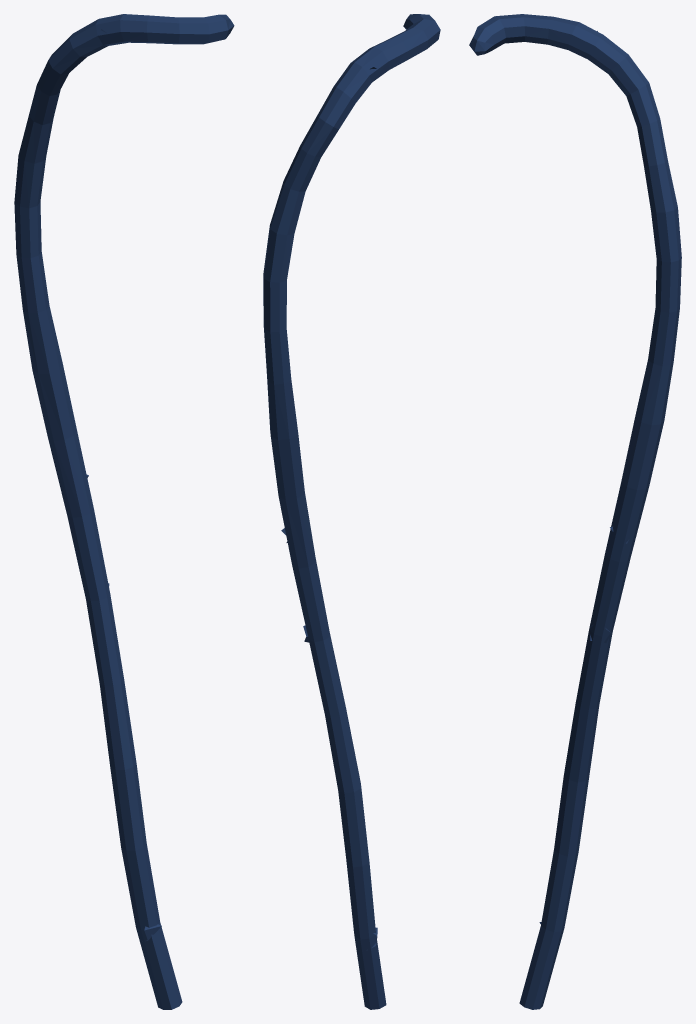
File: Vena Ácigos Mayor.FBX
3 renders of one model, left to right at view 1: azimuth 90°, elevation 25°; view 2: azimuth 150°, elevation 25°; view 3: azimuth 270°, elevation 25°, orthographic. The views are drawn at different scales.
Visible parts, largest first — view 1: CS_Veins; view 2: CS_Veins; view 3: CS_Veins.
Part boxes in pixels (bbox=[...]): CS_Veins: bbox=[14, 14, 234, 1009]; CS_Veins: bbox=[263, 14, 440, 1009]; CS_Veins: bbox=[469, 14, 681, 1009].
Bounding box in the file's own units: 57.62 × 583 × 116.
